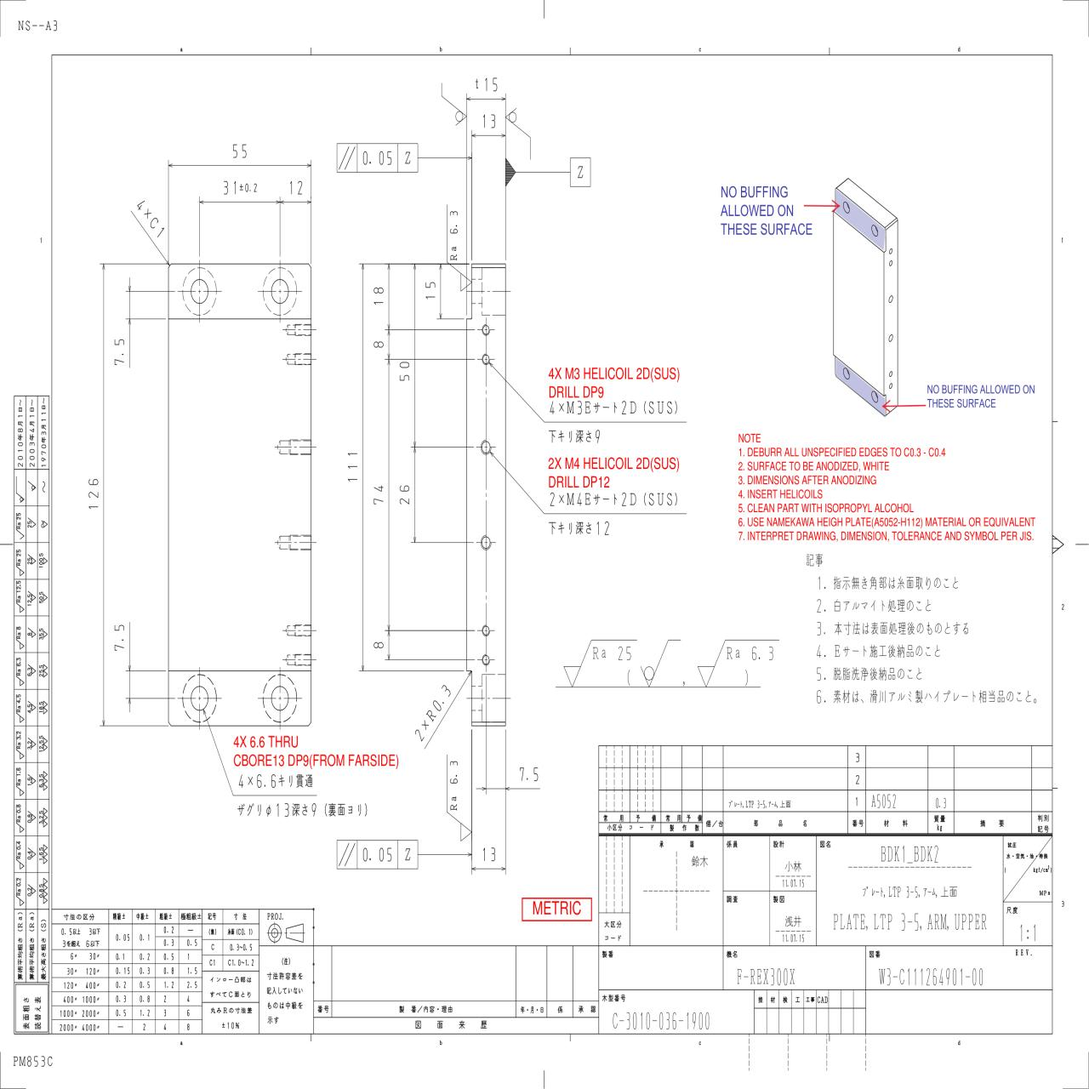basic_dimension: (363, 848, 392, 862), (363, 151, 392, 165), (88, 479, 99, 509), (347, 452, 358, 482), (113, 338, 125, 365), (519, 767, 539, 782), (114, 624, 124, 651), (399, 484, 410, 505), (399, 362, 410, 382), (373, 486, 383, 505), (373, 287, 384, 304), (425, 282, 436, 299), (233, 144, 246, 158), (290, 181, 303, 195), (483, 113, 495, 128), (483, 847, 495, 861), (373, 641, 384, 649), (373, 341, 384, 347)
datum_symbol: (505, 156, 591, 188)
dimension_chamfer_symbol: (149, 215, 165, 239)
dimension_chamfer_text: (155, 225, 165, 239)
dimension_diameter_symbol: (265, 801, 290, 818)
dimension_diameter_text: (276, 802, 289, 818)
dimension_metric_symbol: (566, 491, 584, 507), (566, 400, 583, 416)
dimension_metric_text: (576, 491, 582, 507), (577, 399, 582, 415)
dimension_radius_symbol: (426, 684, 452, 723)
dimension_radius_text: (432, 683, 452, 713)
dimension_thickness_symbol: (474, 76, 498, 92)
dimension_thickness_text: (485, 76, 498, 92)
explicit_tolerance_text: (223, 180, 257, 195)
gdt_frame_symbol: (336, 144, 418, 173), (336, 840, 418, 869)
gdt_parallelism_symbol: (344, 843, 355, 867), (344, 146, 355, 170), (339, 843, 349, 867), (339, 146, 349, 170)
surface_finish_symbol: (697, 639, 779, 689), (563, 639, 638, 688), (447, 204, 473, 292), (447, 754, 472, 842), (640, 639, 681, 688), (505, 108, 531, 160), (441, 82, 467, 126)
surface_finish_text: (752, 646, 773, 660), (618, 646, 631, 661), (450, 761, 458, 784), (450, 211, 458, 234)
